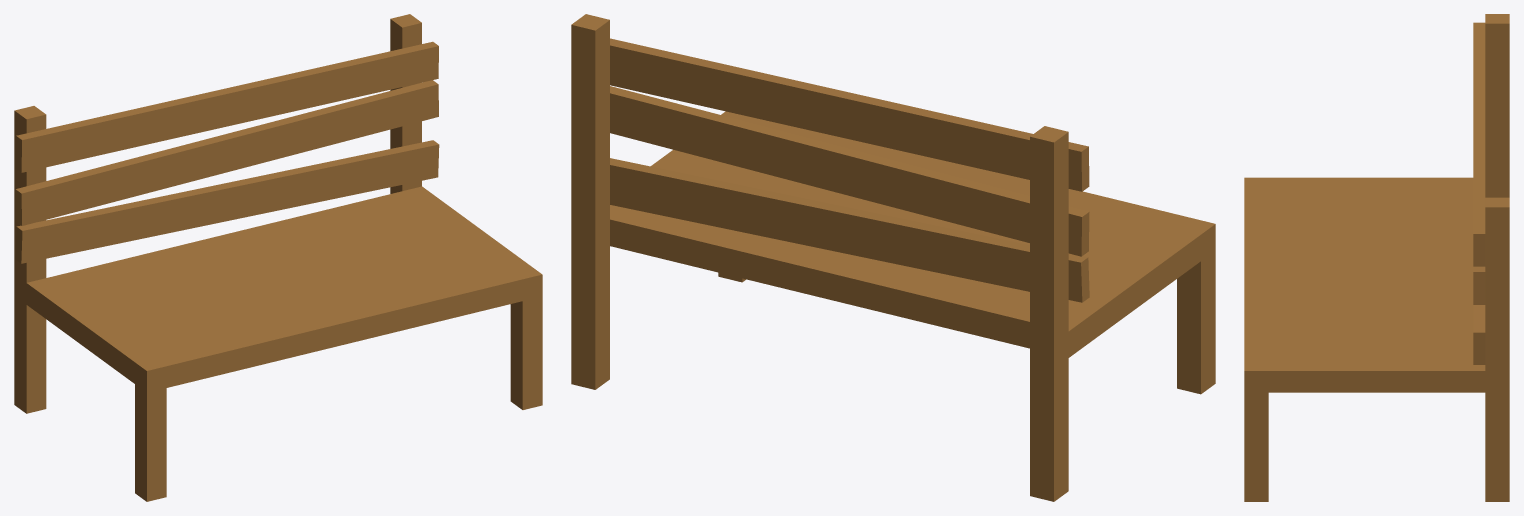
The model's file is egypt-egypt-market-table.glb.
3 renders of one model, left to right at view 1: azimuth 30°, elevation 25°; view 2: azimuth 150°, elevation 25°; view 3: azimuth 270°, elevation 25°, orthographic. The views are drawn at different scales.
Parts seen in each view (by area): view 1: egypt-market-table; view 2: egypt-market-table; view 3: egypt-market-table.
Boxes of the visible parts, x1,y1,x2,y2 form: egypt-market-table: (14,14,542,501); egypt-market-table: (571,14,1215,501); egypt-market-table: (1244,14,1509,501).
Size of the model in its own units: 2 by 1.35 by 1.1.
